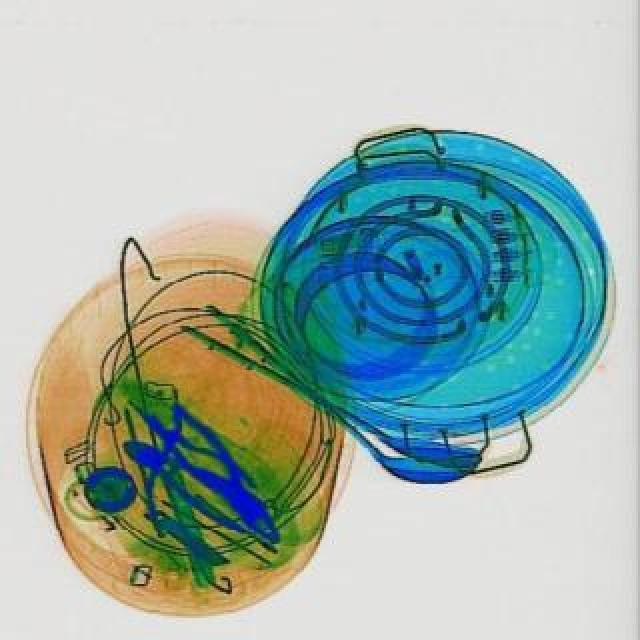wrench: (144, 394, 300, 554), (118, 426, 296, 554)
